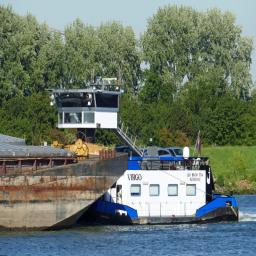tugboat: (47, 75, 242, 228)
